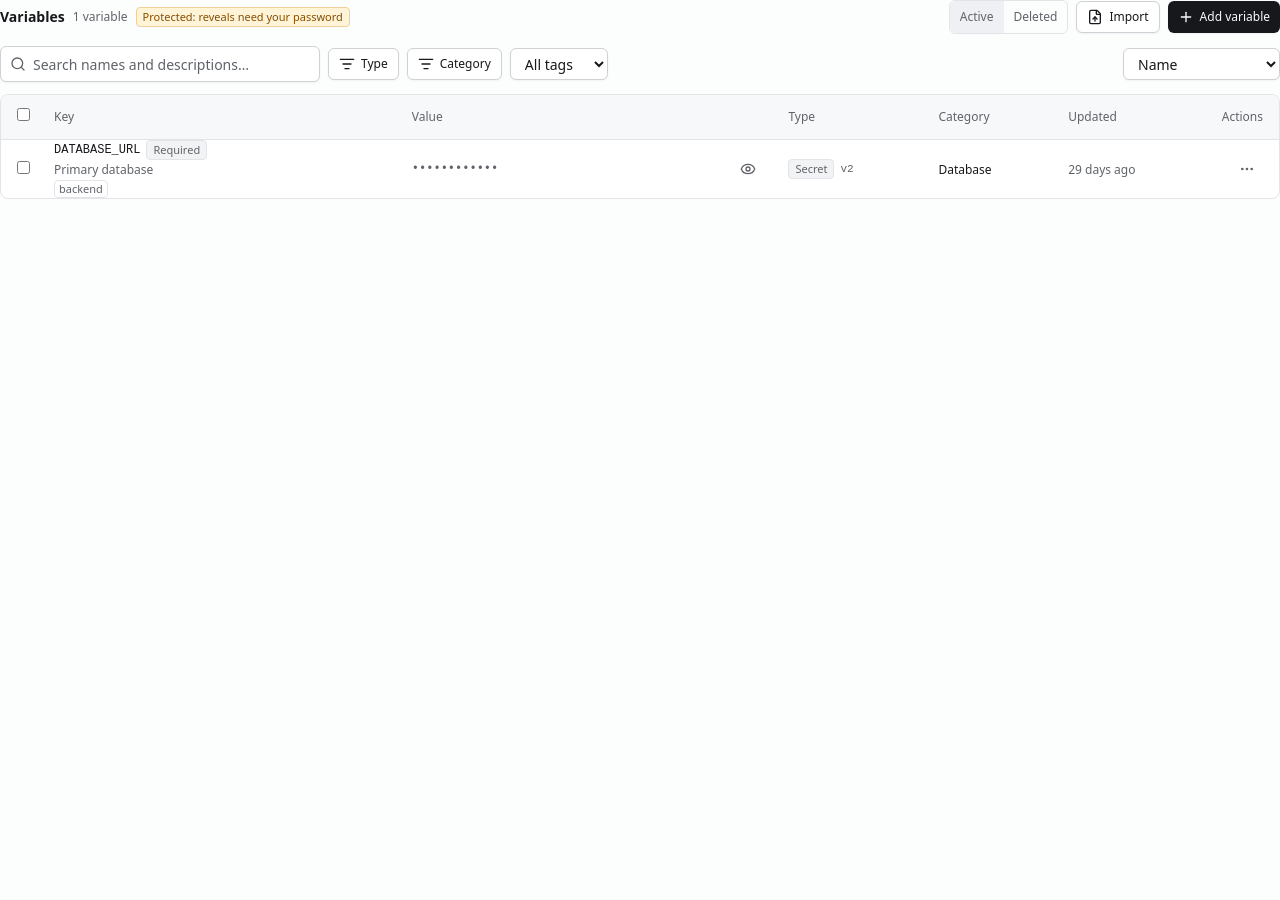
it: VariablesPanel › asks for the password before revealing in a protected environment
Click the button named "Reveal DATABASE_URL" at (748, 168), box [732, 152, 764, 184]
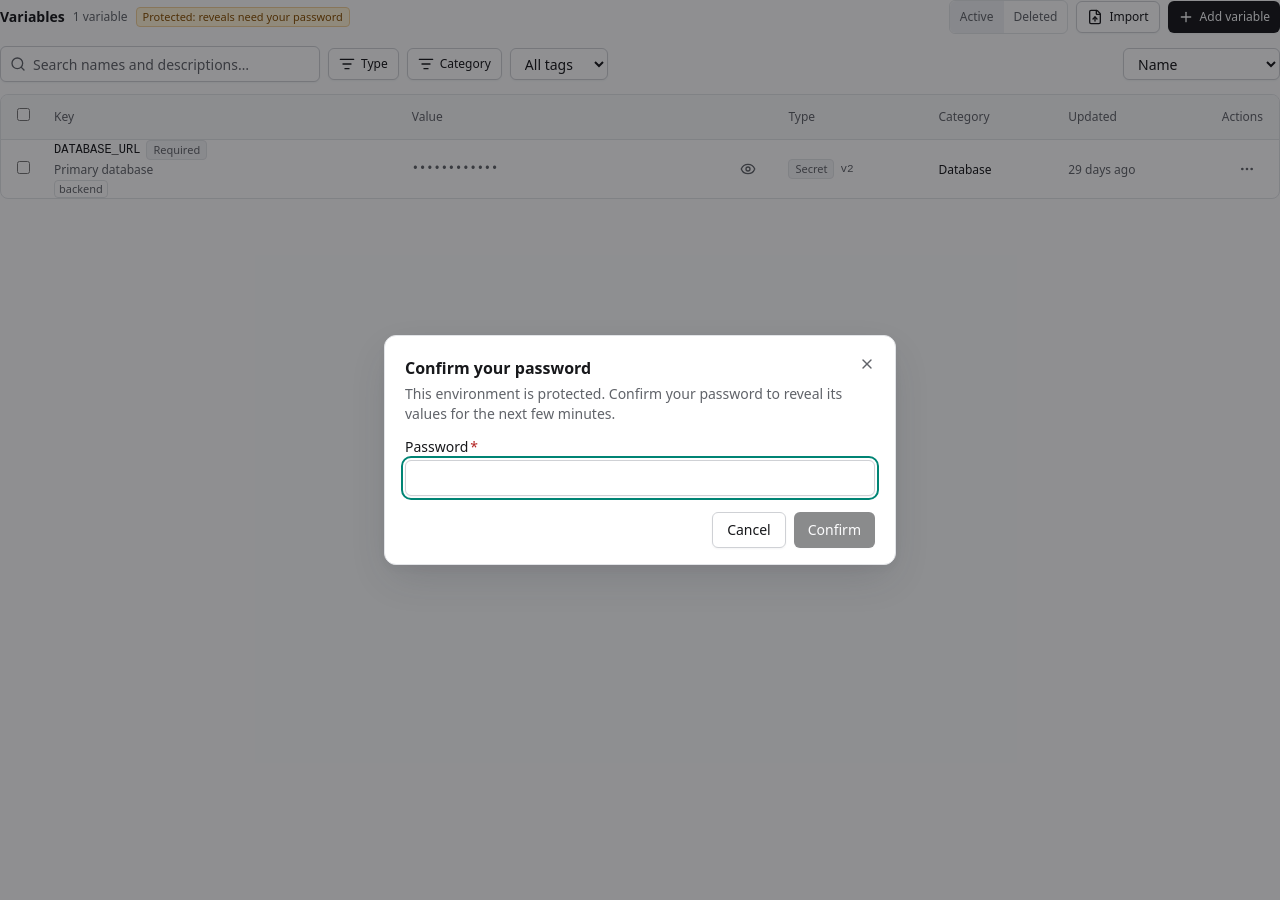
Type "pw-synthetic" into the password field labelled "Password*" at (640, 478), box [405, 460, 875, 496]
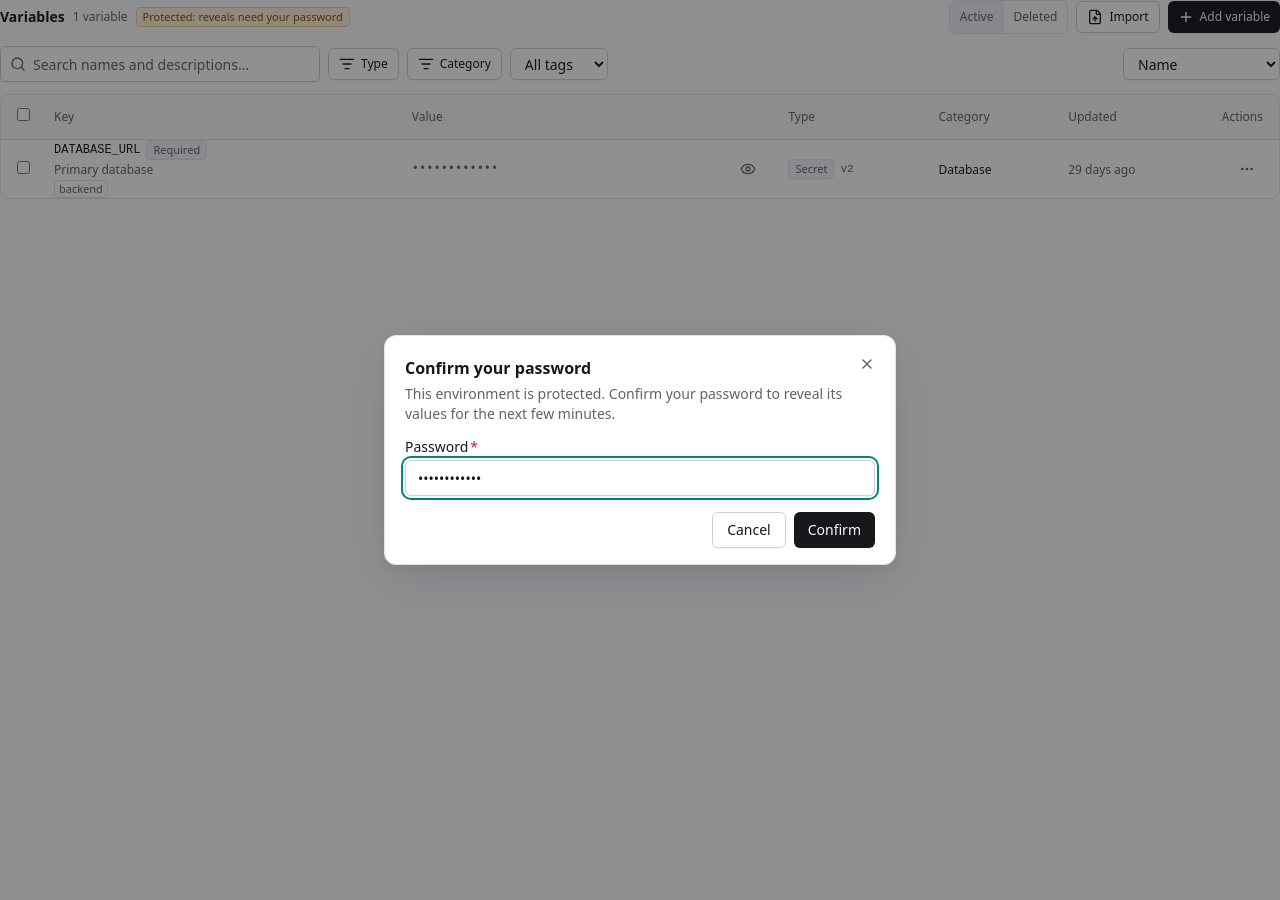
Click the button "Confirm" at (834, 530), box [794, 512, 875, 548]
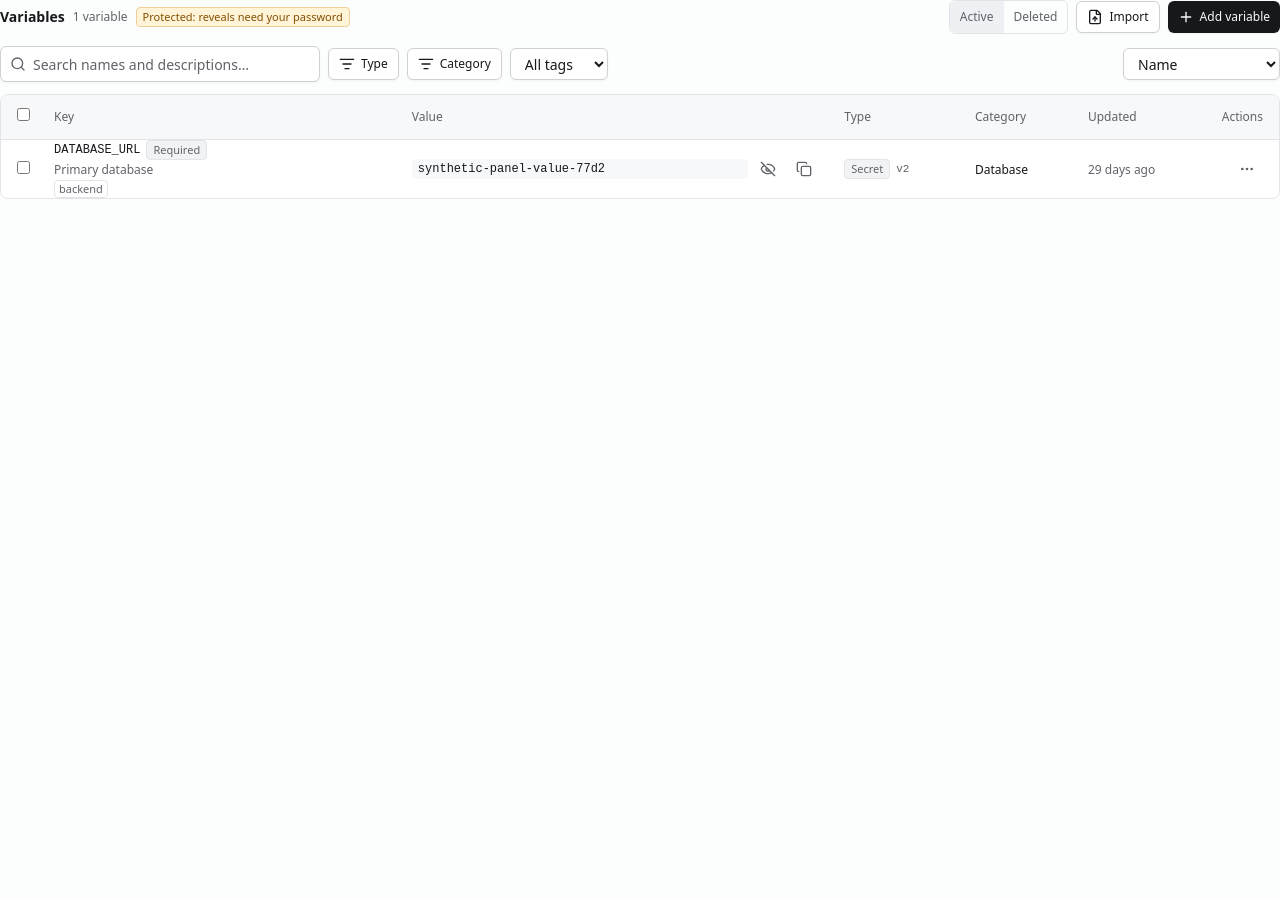
Expected: the text "synthetic-panel-value-77d2" is shown, [412, 158, 748, 178]
